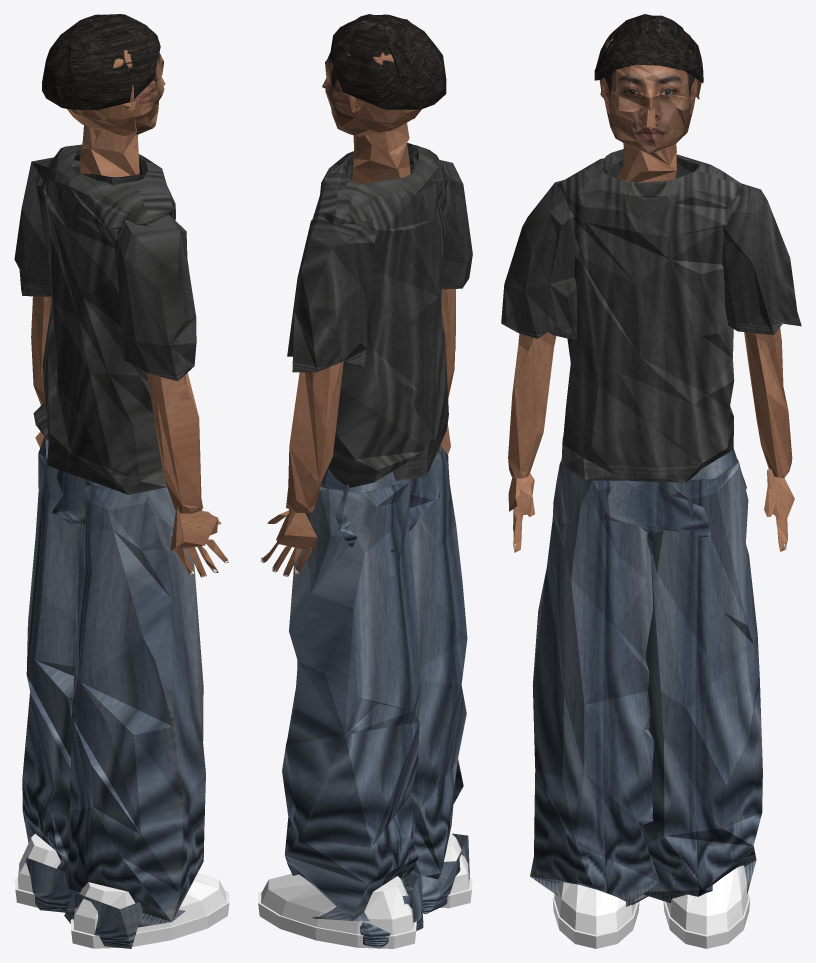
The model's file is nico.obj.
3 renders of one model, left to right at view 1: azimuth 30°, elevation 25°; view 2: azimuth 150°, elevation 25°; view 3: azimuth 270°, elevation 25°, orthographic.
Visible parts, largest first — view 1: jeans, jacket-back, sleeve, skin, hair, flat, jacket, face; view 2: jeans, jacket-back, sleeve, skin, hair, flat, jacket, face; view 3: jeans, jacket, sleeve, skin, flat, face, hair, jacket-back.
Part boxes in pixels (x1=…): jeans: x1=22, y1=436, x2=205, y2=948; jacket-back: x1=33, y1=144, x2=171, y2=494; sleeve: x1=14, y1=152, x2=196, y2=381; skin: x1=31, y1=50, x2=228, y2=577; hair: x1=42, y1=14, x2=160, y2=110; flat: x1=15, y1=557, x2=229, y2=948; jacket: x1=74, y1=147, x2=175, y2=486; face: x1=122, y1=51, x2=164, y2=134; jeans: x1=282, y1=445, x2=469, y2=948; jacket-back: x1=327, y1=142, x2=449, y2=487; sleeve: x1=287, y1=160, x2=472, y2=372; skin: x1=262, y1=52, x2=455, y2=576; hair: x1=330, y1=14, x2=446, y2=109; flat: x1=258, y1=557, x2=472, y2=948; jacket: x1=312, y1=144, x2=414, y2=459; face: x1=325, y1=50, x2=369, y2=135; jeans: x1=530, y1=448, x2=762, y2=906; jacket: x1=557, y1=164, x2=743, y2=482; sleeve: x1=501, y1=180, x2=801, y2=340; skin: x1=508, y1=32, x2=794, y2=552; flat: x1=514, y1=544, x2=785, y2=948; face: x1=602, y1=41, x2=697, y2=152; hair: x1=594, y1=14, x2=703, y2=82; jacket-back: x1=558, y1=149, x2=741, y2=451.
Bounding box in the file's own units: 5.4 × 29.08 × 8.98.
Materials: 8 (8 with a texture image).
